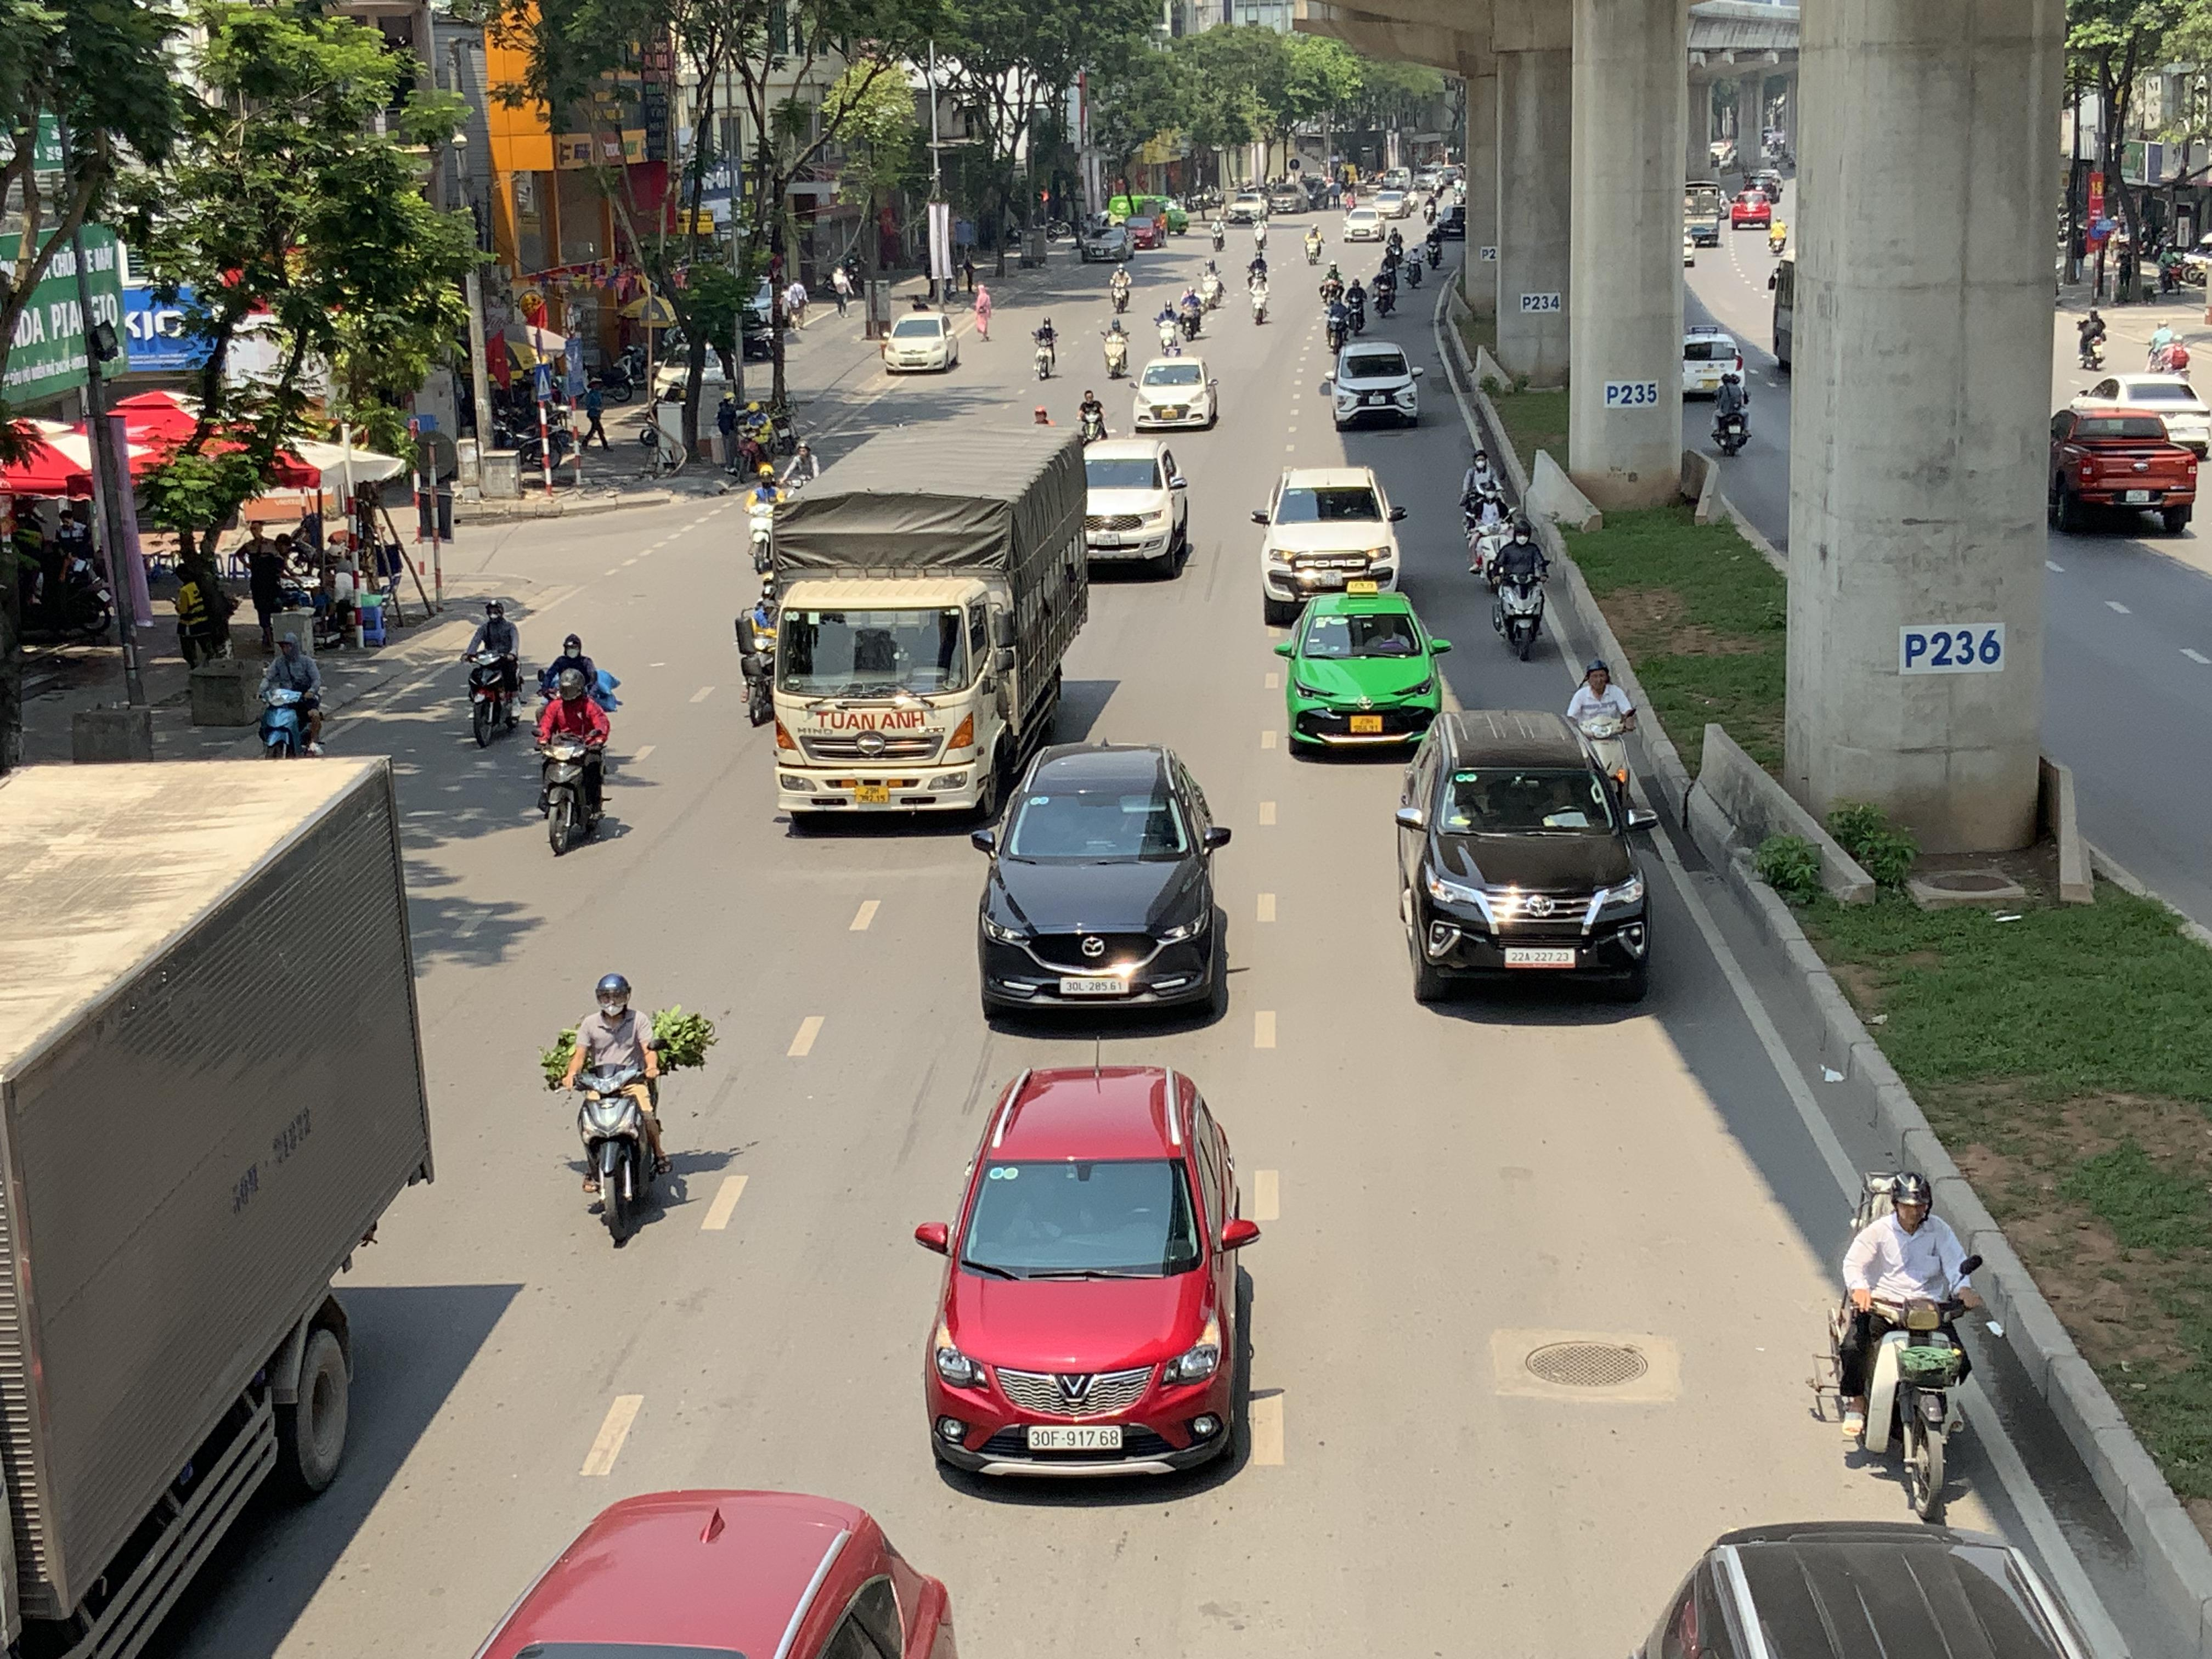BSD: (1028, 1425, 1123, 1450), (1503, 948, 1576, 967), (1059, 978, 1129, 993)
BSV: (1350, 714, 1385, 734), (855, 786, 890, 803), (1320, 570, 1343, 587)
car: (913, 1061, 1264, 1486), (383, 1486, 970, 1659), (1599, 1520, 2189, 1659), (1392, 706, 1656, 1007), (968, 741, 1235, 1028), (1271, 587, 1453, 760), (1249, 465, 1407, 624), (2048, 401, 2200, 533), (1082, 437, 1193, 580), (2073, 371, 2212, 458), (1325, 338, 1423, 430), (1130, 356, 1219, 430), (881, 310, 960, 375), (1681, 324, 1747, 397), (1078, 227, 1134, 261), (1385, 227, 1404, 268)
motorbike: (1824, 1168, 1986, 1527), (549, 971, 678, 1248), (533, 673, 613, 856), (1562, 659, 1648, 828), (463, 598, 526, 748), (254, 633, 326, 760), (1489, 518, 1552, 662), (735, 586, 780, 725), (1465, 484, 1515, 591), (1710, 364, 1752, 457), (745, 465, 780, 573), (732, 401, 773, 481), (2146, 317, 2191, 376), (2074, 301, 2109, 371), (1075, 385, 1109, 444), (1029, 314, 1059, 382), (1101, 317, 1130, 380), (1155, 298, 1181, 356), (1372, 261, 1399, 319), (1324, 295, 1348, 356), (1318, 258, 1345, 314), (1198, 258, 1226, 308), (1345, 279, 1369, 336), (1108, 261, 1132, 314), (1179, 286, 1202, 342), (1249, 272, 1271, 326), (1404, 246, 1425, 289), (1305, 223, 1325, 265)
truck: (0, 753, 437, 1659), (763, 418, 1092, 831)
